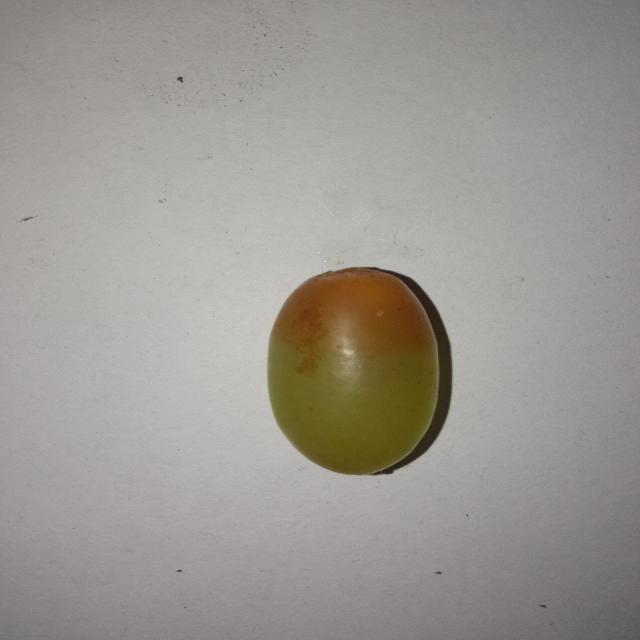rotten_grape: (270, 274, 436, 472)
